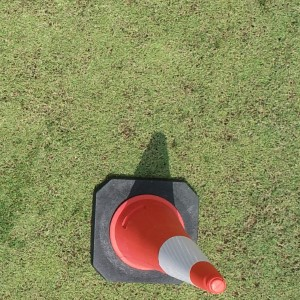traffic cone: (90, 176, 226, 295)
